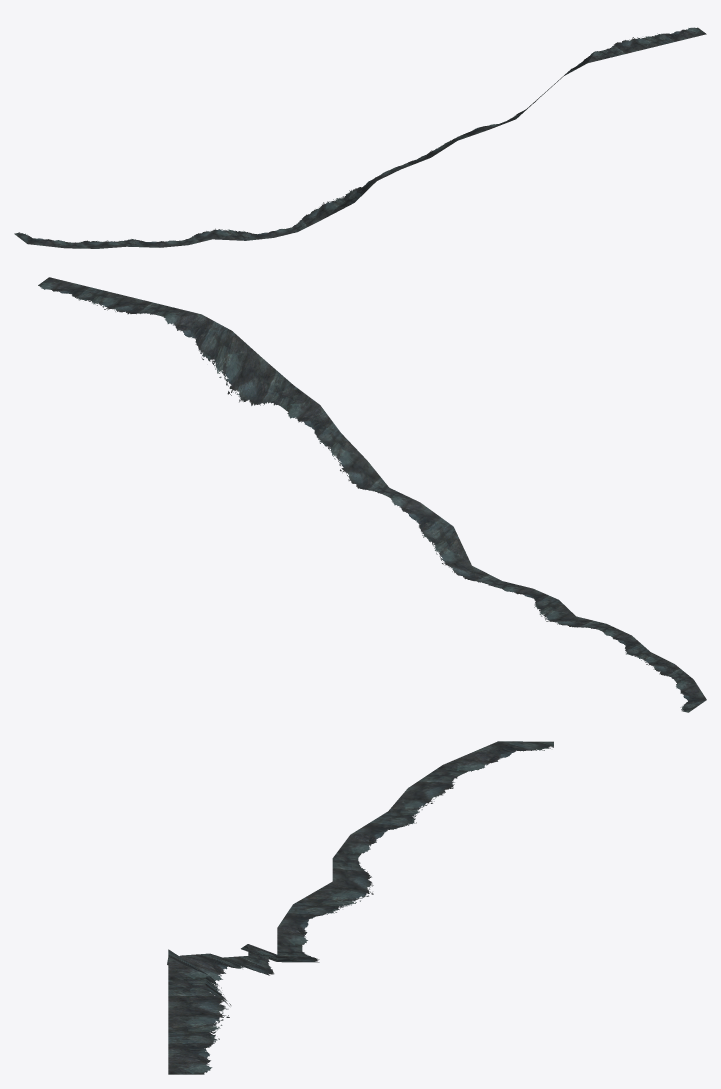
Rendered from blend_weeds07.fbx.
3 renders of one model, top to bottom at view 1: azimuth 30°, elevation 25°; view 2: azimuth 150°, elevation 25°; view 3: azimuth 270°, elevation 25°, orthographic. The views are drawn at different scales.
Parts seen in each view (by area): view 1: obj0.028; view 2: obj0.028; view 3: obj0.028.
Boxes of the visible parts, x1,y1,x2,y2 form: obj0.028: (14,27,706,248); obj0.028: (38,277,706,712); obj0.028: (167,741,553,1074).
Size of the model in its own units: 62.55 by 12.48 by 17.56.
